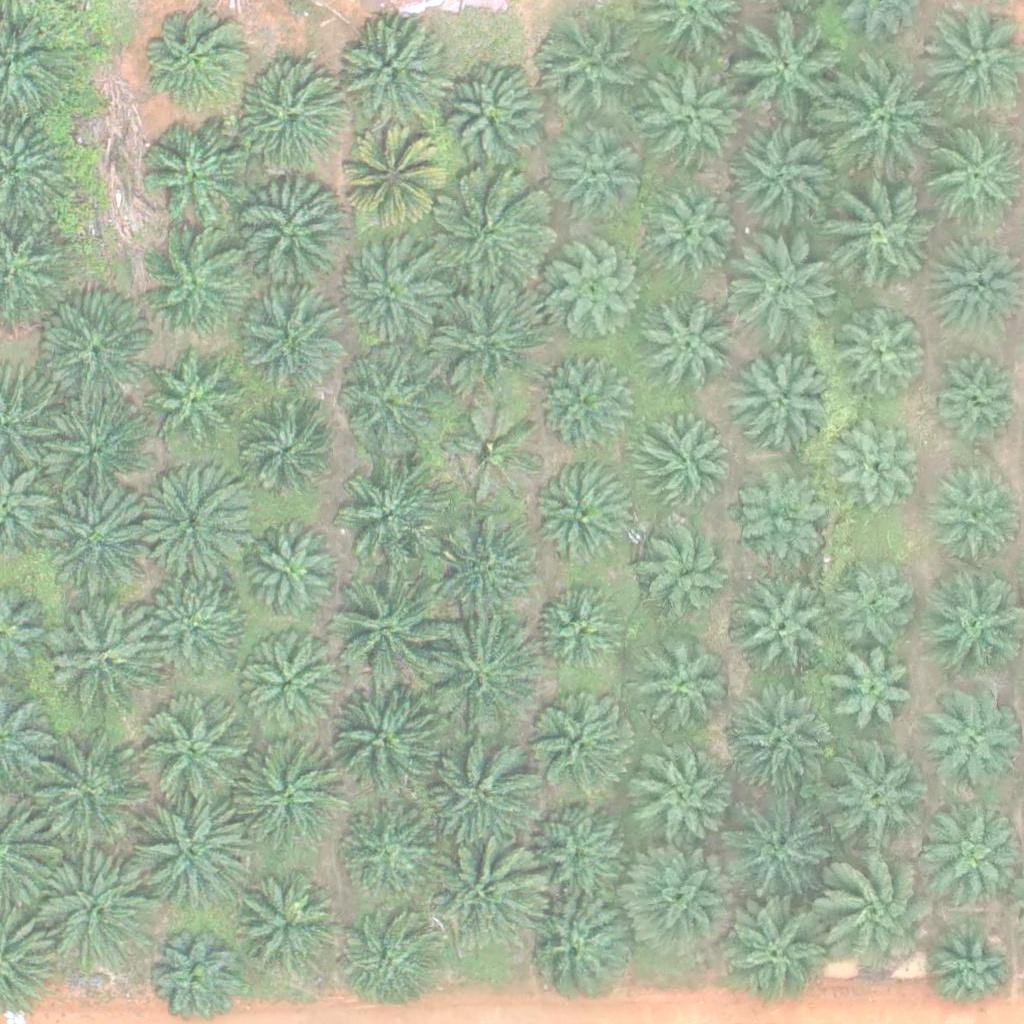Kelapa_Sawit: (817, 853, 942, 979), (328, 681, 441, 795), (135, 465, 248, 579), (44, 481, 157, 595), (38, 858, 151, 972), (727, 121, 840, 234), (721, 690, 834, 803), (721, 791, 834, 904), (717, 898, 830, 1011), (422, 735, 535, 848), (425, 506, 538, 619), (429, 286, 542, 399), (433, 174, 546, 287), (327, 575, 440, 688), (236, 181, 349, 294), (230, 739, 343, 852), (138, 123, 251, 236), (140, 700, 253, 813), (49, 599, 162, 712), (824, 68, 937, 181), (730, 17, 843, 130), (432, 62, 545, 175), (726, 238, 838, 352), (425, 620, 537, 734), (141, 228, 253, 342), (820, 177, 932, 290), (817, 742, 929, 855), (626, 846, 738, 959), (520, 892, 632, 1005), (425, 840, 537, 953), (333, 454, 445, 567), (232, 876, 344, 989), (142, 797, 254, 910), (42, 303, 154, 416), (31, 732, 143, 845), (638, 50, 750, 163), (532, 13, 644, 126), (335, 19, 447, 132), (225, 63, 337, 176), (921, 687, 1021, 788), (833, 299, 933, 400), (733, 354, 833, 455), (737, 583, 837, 684), (638, 296, 738, 397), (630, 416, 730, 517), (635, 516, 735, 617), (631, 748, 731, 849), (536, 351, 636, 452), (533, 467, 633, 568), (532, 693, 632, 794), (334, 240, 434, 341), (336, 352, 436, 453), (340, 805, 440, 906), (337, 914, 437, 1015), (242, 297, 342, 398), (237, 637, 337, 738), (143, 352, 243, 453), (729, 466, 829, 566), (539, 246, 639, 346), (533, 795, 633, 895), (445, 402, 545, 502), (340, 134, 440, 234), (234, 411, 334, 511), (145, 584, 245, 684), (45, 400, 145, 500), (247, 531, 335, 620), (930, 352, 1018, 440), (535, 592, 623, 680), (927, 925, 1014, 1013), (831, 420, 918, 508), (831, 561, 918, 649), (828, 649, 915, 737), (650, 191, 737, 279), (639, 644, 726, 732), (552, 136, 639, 224)
